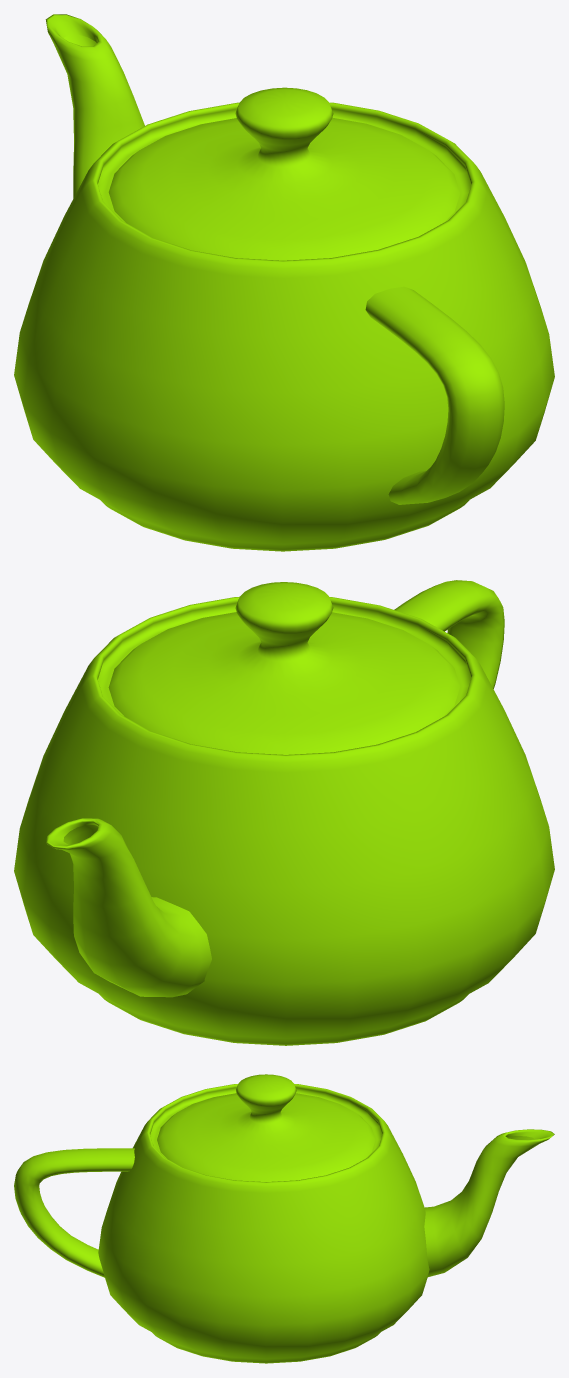
The model's file is teapot.glb.
3 renders of one model, top to bottom at view 1: azimuth 30°, elevation 25°; view 2: azimuth 150°, elevation 25°; view 3: azimuth 270°, elevation 25°, orthographic. The views are drawn at different scales.
Parts seen in each view (by area): view 1: Geometry; view 2: Geometry; view 3: Geometry.
Part boxes in pixels (box(x1,y1,x2,y2)): Geometry: box(14, 14, 554, 551); Geometry: box(14, 580, 554, 1045); Geometry: box(14, 1074, 554, 1363).
Size of the model in its own units: 0.3053 by 0.2296 by 0.491.
